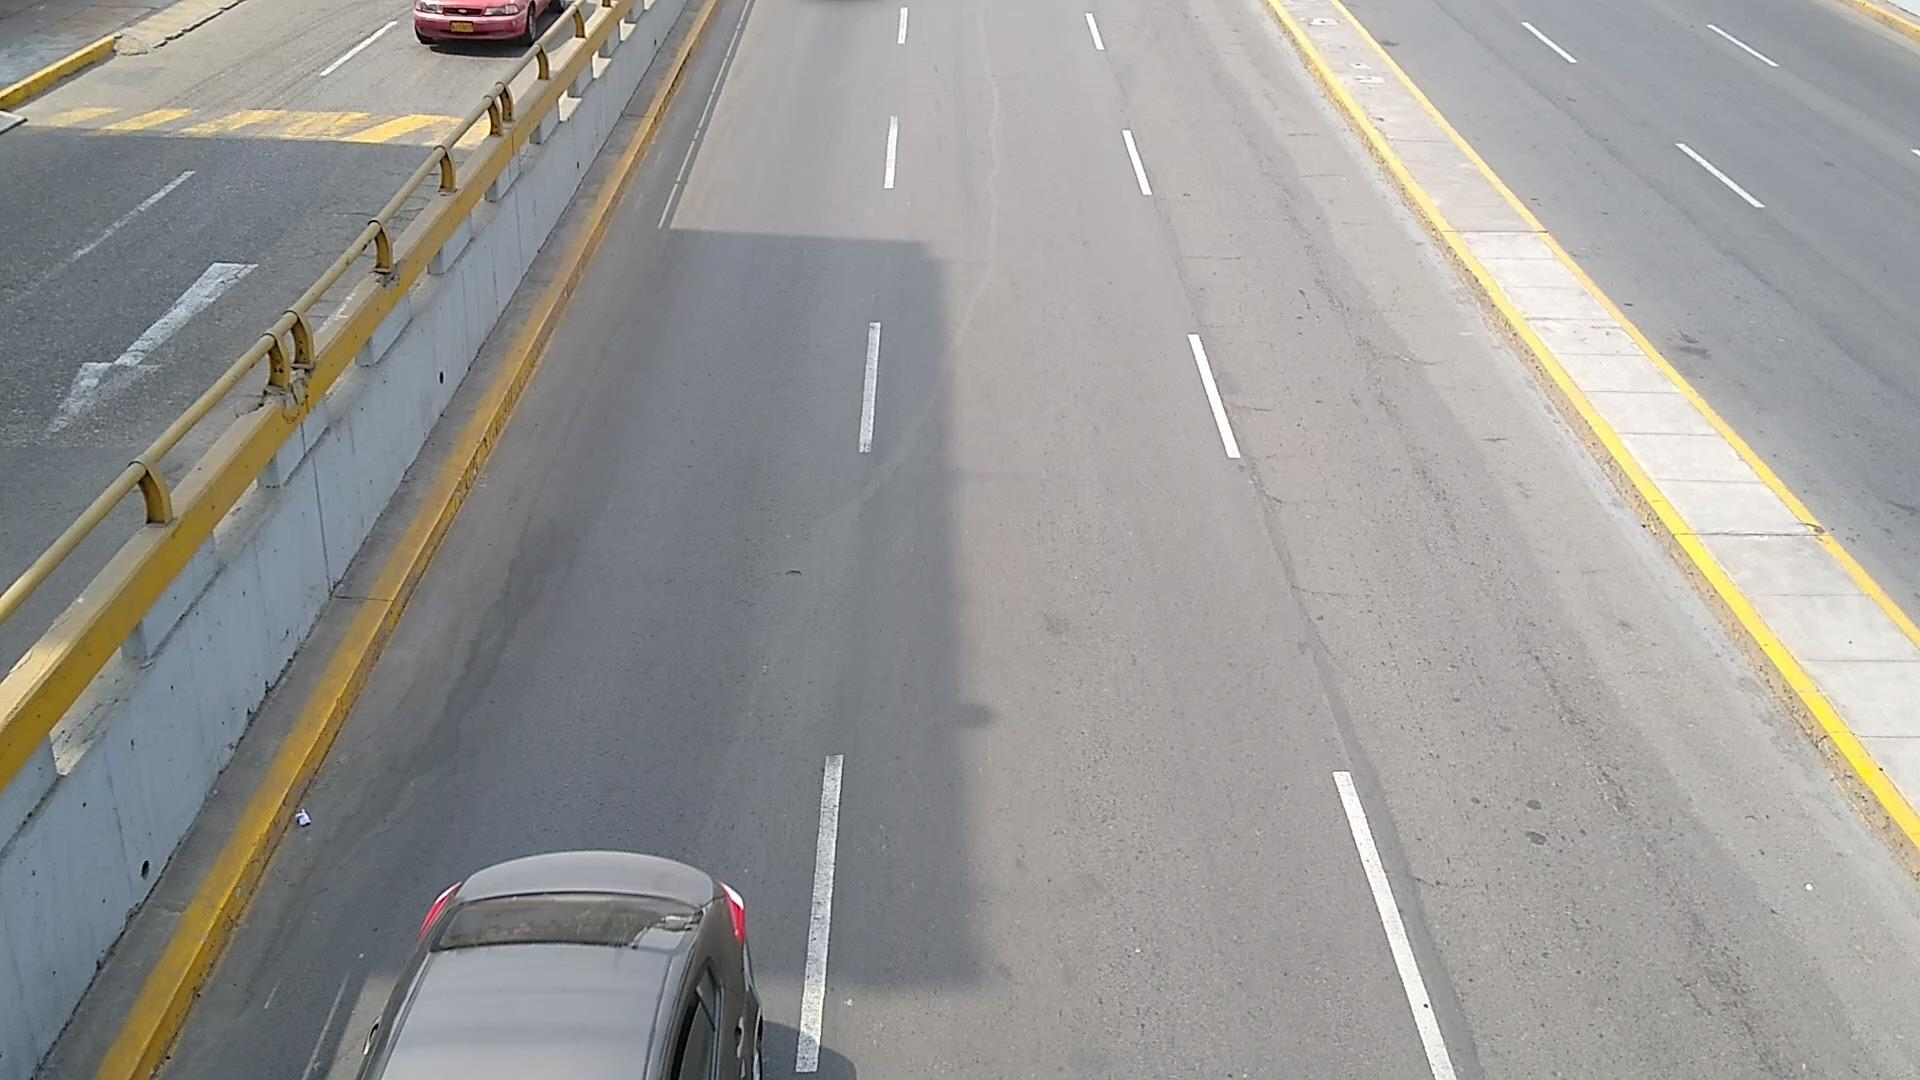car: (360, 851, 761, 1080), (412, 0, 561, 45)
